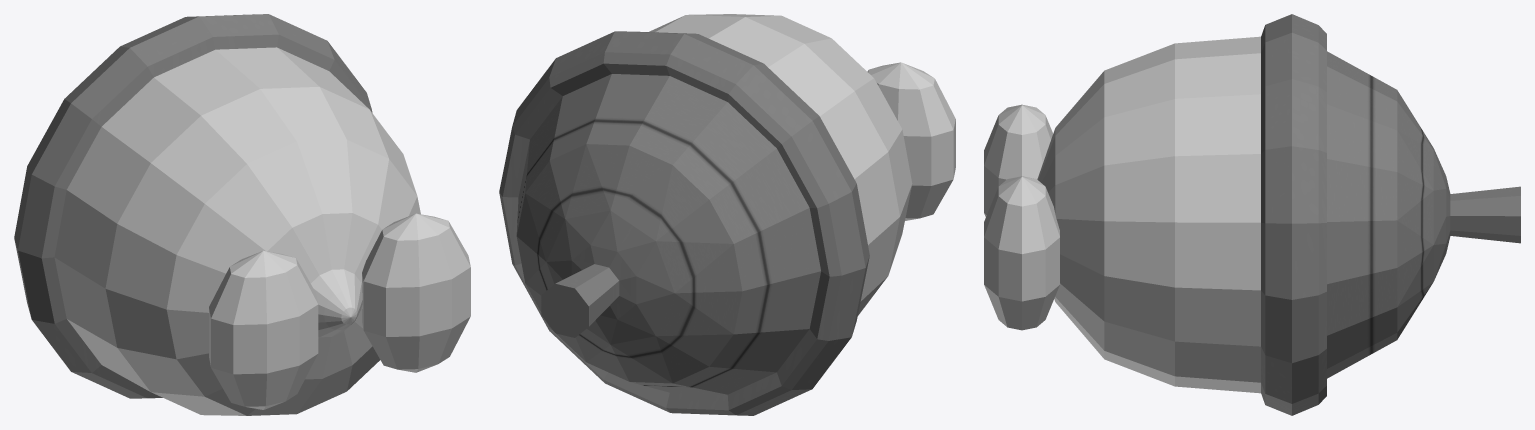
The model's file is BR_Seedot.obj.
3 renders of one model, left to right at view 1: azimuth 30°, elevation 25°; view 2: azimuth 150°, elevation 25°; view 3: azimuth 270°, elevation 25°, orthographic. The views are drawn at different scales.
Parts seen in each view (by area): view 1: taneboh; view 2: taneboh; view 3: taneboh.
Boxes of the visible parts, x1,y1,x2,y2 form: taneboh: (14, 14, 470, 415); taneboh: (499, 14, 955, 415); taneboh: (984, 14, 1520, 415).
Size of the model in its own units: 3.73 by 3.73 by 4.97.
